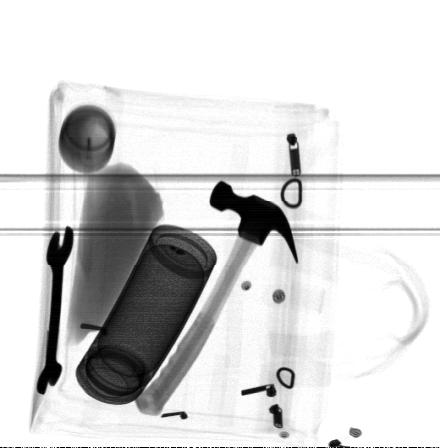Hammer: (136, 180, 299, 418)
Wrench: (36, 228, 74, 395)
